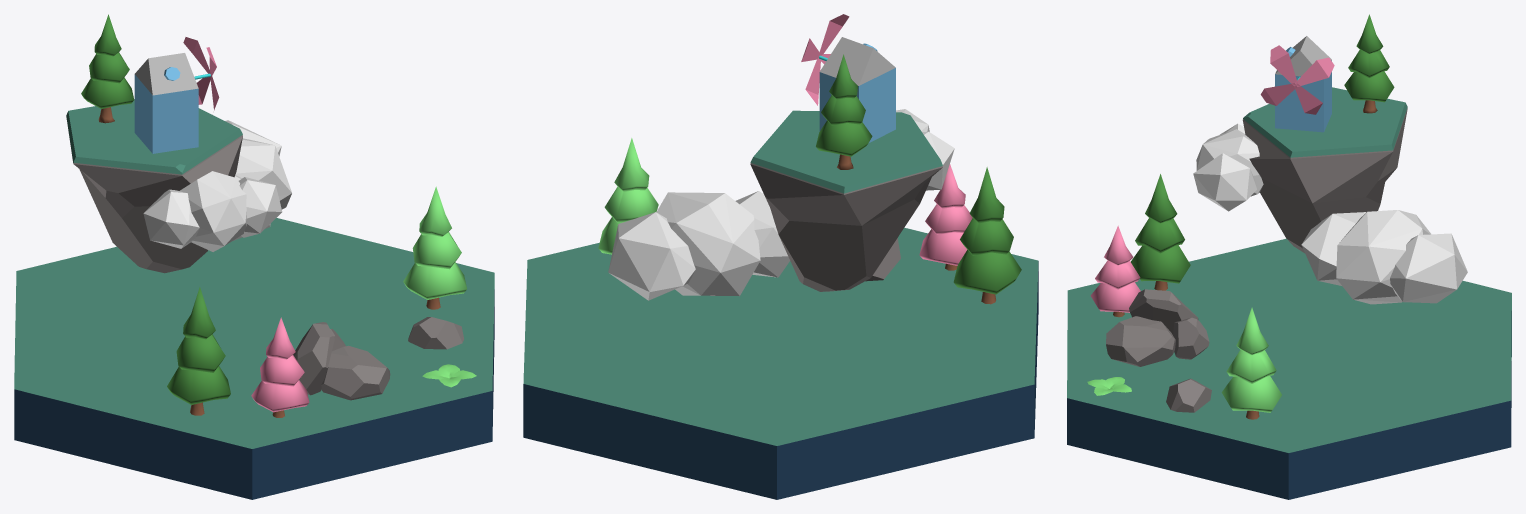
Rendered from Macro - Townhall lvl 789 Wind Land rev.fbx.
The picture shows the model from 3 angles, left to right: view 1: azimuth 30°, elevation 25°; view 2: azimuth 150°, elevation 25°; view 3: azimuth 270°, elevation 25°; orthographic projection. The views are drawn at different scales.
Parts seen in each view (by area): view 1: Cylinder.049, Icosphere.011, Cloud_1.001, Icosphere.010, milkbox1.001, Rock Type2 02 mesh.001, Tree_Spruce_tiny_01.004, Tree_Spruce_tiny_01.005, Tree_Spruce_tiny_01.006, Tree_Spruce_tiny_01.009, Cloud_1.004, Rock Type2 04 mesh.024 (+2 smaller); view 2: Cylinder.049, Cloud_1.004, Icosphere.011, Icosphere.010, Tree_Spruce_tiny_01.004, milkbox1.001, Tree_Spruce_tiny_01.009, Tree_Spruce_tiny_01.006, Tree_Spruce_tiny_01.005, flower4.001, Cloud_1.001; view 3: Cylinder.049, Cloud_1.004, Icosphere.011, Icosphere.010, Rock Type2 02 mesh.001, Cloud_1.001, Tree_Spruce_tiny_01.004, Tree_Spruce_tiny_01.005, milkbox1.001, Tree_Spruce_tiny_01.009, Tree_Spruce_tiny_01.006, flower4.001 (+2 smaller).
Boxes of the visible parts, bbox=[...] form: Cylinder.049: bbox=[14, 218, 494, 499]; Icosphere.011: bbox=[66, 116, 242, 273]; Cloud_1.001: bbox=[143, 171, 282, 251]; Icosphere.010: bbox=[66, 99, 242, 174]; milkbox1.001: bbox=[134, 53, 198, 153]; Rock Type2 02 mesh.001: bbox=[293, 322, 390, 400]; Tree_Spruce_tiny_01.004: bbox=[167, 287, 230, 415]; Tree_Spruce_tiny_01.005: bbox=[403, 186, 466, 309]; Tree_Spruce_tiny_01.006: bbox=[251, 317, 309, 417]; Tree_Spruce_tiny_01.009: bbox=[81, 14, 134, 123]; Cloud_1.004: bbox=[225, 120, 291, 240]; Rock Type2 04 mesh.024: bbox=[408, 317, 463, 349]; Cylinder.049: bbox=[523, 227, 1038, 499]; Cloud_1.004: bbox=[608, 191, 790, 300]; Icosphere.011: bbox=[750, 163, 942, 291]; Icosphere.010: bbox=[750, 110, 942, 193]; Tree_Spruce_tiny_01.004: bbox=[953, 167, 1021, 304]; milkbox1.001: bbox=[819, 37, 895, 142]; Tree_Spruce_tiny_01.009: bbox=[816, 54, 872, 169]; Tree_Spruce_tiny_01.006: bbox=[919, 164, 972, 270]; Tree_Spruce_tiny_01.005: bbox=[598, 138, 658, 254]; flower4.001: bbox=[801, 14, 849, 105]; Cloud_1.001: bbox=[896, 109, 954, 190]; Cylinder.049: bbox=[1067, 238, 1511, 499]; Cloud_1.004: bbox=[1301, 210, 1467, 304]; Icosphere.011: bbox=[1242, 108, 1407, 253]; Icosphere.010: bbox=[1243, 87, 1407, 157]; Rock Type2 02 mesh.001: bbox=[1106, 289, 1209, 366]; Cloud_1.001: bbox=[1193, 123, 1263, 211]; Tree_Spruce_tiny_01.004: bbox=[1131, 174, 1190, 290]; Tree_Spruce_tiny_01.005: bbox=[1221, 307, 1281, 419]; milkbox1.001: bbox=[1275, 36, 1331, 132]; Tree_Spruce_tiny_01.009: bbox=[1344, 14, 1394, 113]; Tree_Spruce_tiny_01.006: bbox=[1090, 225, 1140, 317]; flower4.001: bbox=[1260, 45, 1334, 114].
Bounding box in the file's own units: 197 × 142 × 172.
